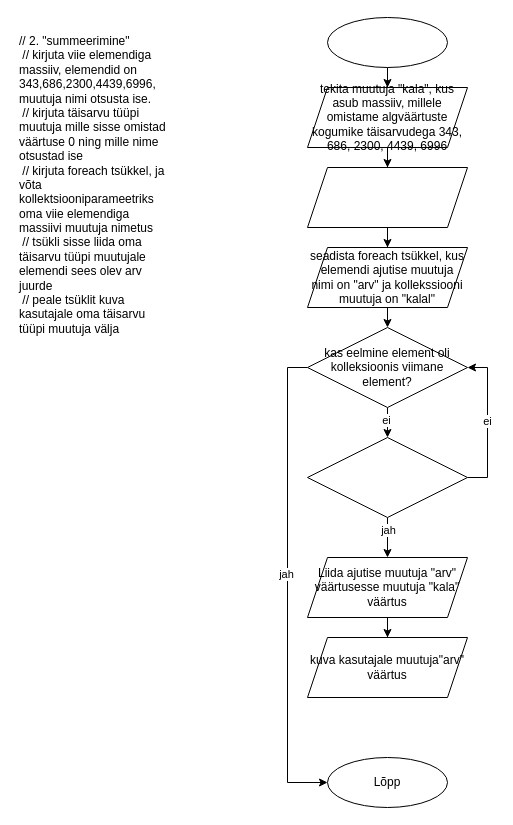
Image size: 513x825. Some labels were removed from this diagram. Each missing label, with the box of its shape:
algus: (326, 16, 448, 68)
kas ajutise muutuja "arv" väärtus on suurem kui 686?: (306, 436, 468, 518)
tekita muutuja "arv" millele omista algväärtus 0: (306, 166, 468, 228)
